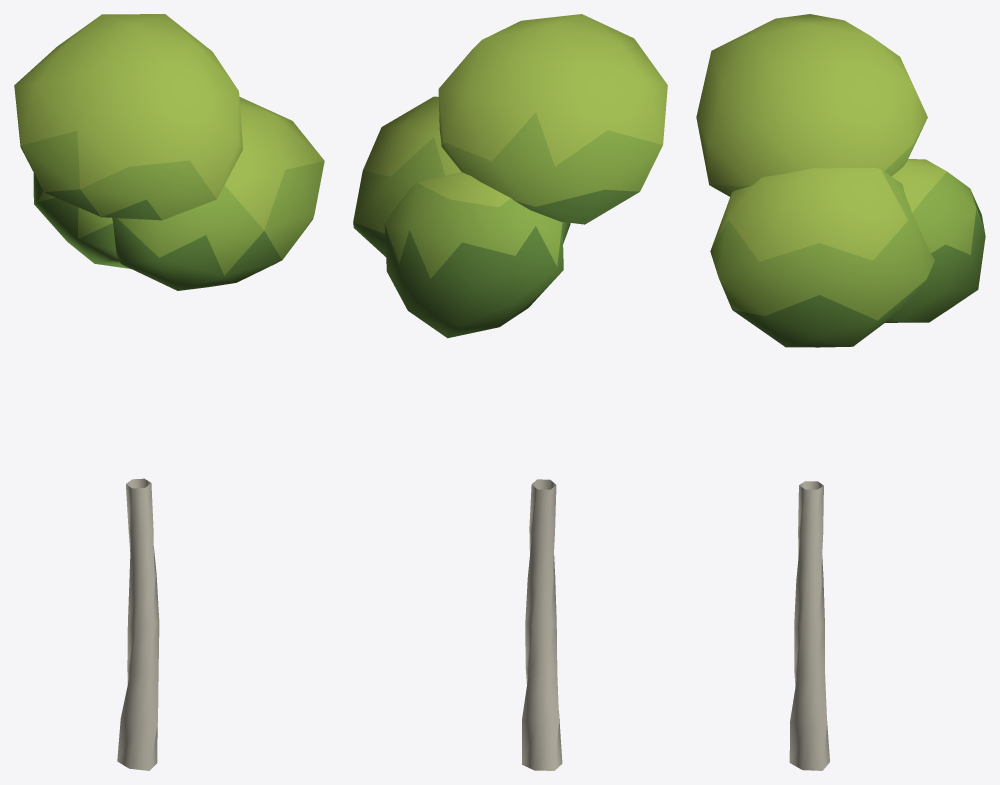
The model's file is BirchA_FAR.glb.
3 renders of one model, left to right at view 1: azimuth 30°, elevation 25°; view 2: azimuth 150°, elevation 25°; view 3: azimuth 270°, elevation 25°, orthographic.
Parts seen in each view (by area): view 1: BirchA_FAR.leafLight, BirchA_FAR.leafMid, BirchA_FAR.leafDark, BirchA_FAR.bark; view 2: BirchA_FAR.leafLight, BirchA_FAR.leafMid, BirchA_FAR.leafDark, BirchA_FAR.bark; view 3: BirchA_FAR.leafLight, BirchA_FAR.leafMid, BirchA_FAR.leafDark, BirchA_FAR.bark.
Boxes of the visible parts, x1,y1,x2,y2 form: BirchA_FAR.leafLight: (14, 14, 324, 230); BirchA_FAR.leafMid: (14, 90, 324, 275); BirchA_FAR.leafDark: (33, 173, 281, 290); BirchA_FAR.bark: (117, 478, 159, 770); BirchA_FAR.leafLight: (363, 14, 667, 207); BirchA_FAR.leafMid: (353, 112, 662, 278); BirchA_FAR.leafDark: (353, 189, 639, 338); BirchA_FAR.bark: (522, 479, 562, 770); BirchA_FAR.leafLight: (696, 14, 946, 261); BirchA_FAR.leafMid: (710, 120, 983, 320); BirchA_FAR.leafDark: (733, 190, 985, 347); BirchA_FAR.bark: (789, 481, 829, 770).
Bounding box in the file's own units: 10.92 × 27.32 × 9.75.
